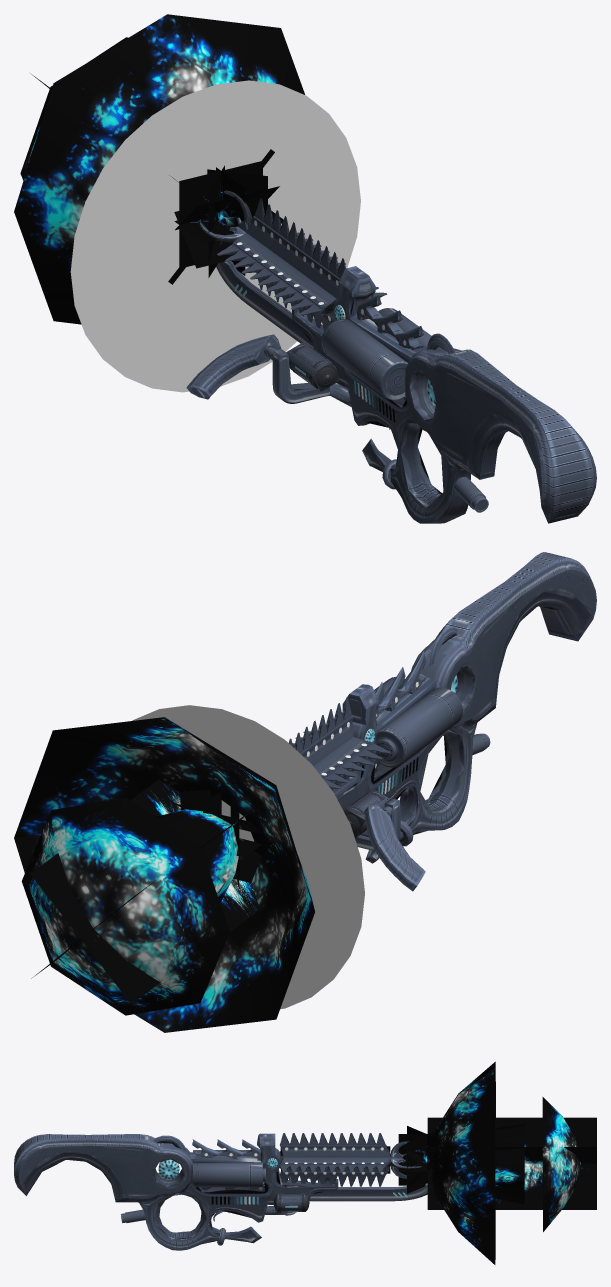
Rendered from Kralmok_AutodeskFBX2011.fbx.
3 renders of one model, top to bottom at view 1: azimuth 30°, elevation 25°; view 2: azimuth 150°, elevation 25°; view 3: azimuth 270°, elevation 25°, orthographic. The views are drawn at different scales.
Visible parts, largest first — view 1: Kraad_MuzzleControl, Kraad_MuzzleFlash3_LOD300, Kralmok_LOD300, Kralmok_LOD200, Kralmok_LOD100; view 2: Kraad_MuzzleFlash3_LOD300, Kraad_MuzzleControl, Kralmok_LOD100, Kralmok_LOD200, Kralmok_LOD300, Kraad_MuzzleFlash1_LOD300; view 3: Kraad_MuzzleFlash3_LOD300, Kralmok_LOD100, Kralmok_LOD200, Kralmok_LOD300, Kraad_MuzzleFlash1_LOD300.
Boxes of the visible parts, x1,y1,x2,y2 form: Kraad_MuzzleControl: [70, 80, 360, 392]; Kraad_MuzzleFlash3_LOD300: [14, 14, 304, 324]; Kralmok_LOD300: [187, 167, 596, 523]; Kralmok_LOD200: [174, 161, 594, 521]; Kralmok_LOD100: [201, 192, 541, 520]; Kraad_MuzzleFlash3_LOD300: [14, 717, 314, 1032]; Kraad_MuzzleControl: [132, 705, 364, 1009]; Kralmok_LOD100: [289, 560, 594, 869]; Kralmok_LOD200: [180, 552, 596, 890]; Kralmok_LOD300: [173, 552, 596, 891]; Kraad_MuzzleFlash1_LOD300: [30, 780, 259, 1004]; Kraad_MuzzleFlash3_LOD300: [427, 1061, 580, 1264]; Kralmok_LOD100: [21, 1133, 427, 1246]; Kralmok_LOD200: [17, 1126, 434, 1250]; Kralmok_LOD300: [14, 1131, 434, 1250]; Kraad_MuzzleFlash1_LOD300: [427, 1117, 596, 1209].
Size of what is drawn, in the model's own units: 25.42 by 26.47 by 71.53.
